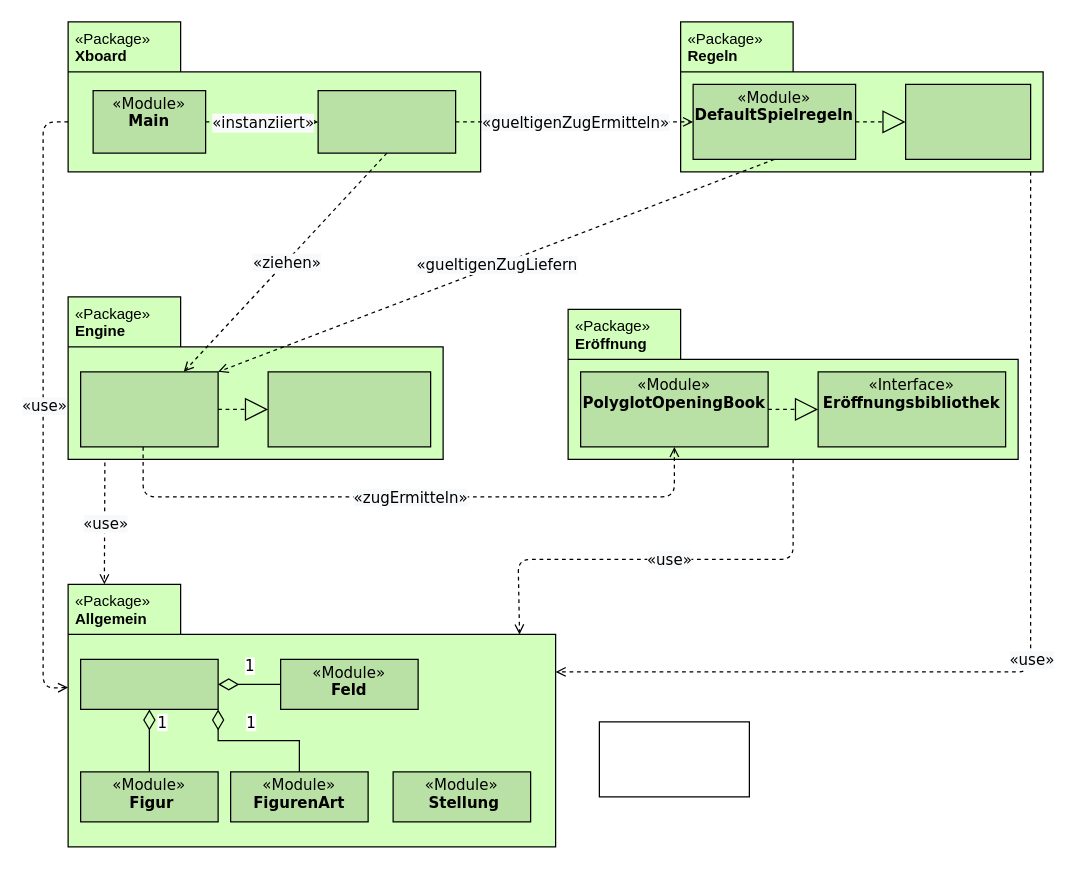
This 1075x869 diagram has some shape labels left out. Here are the shapes that lost their labels. From the top down, the centre of each, then its label:
pixel 386 121: «Module » XBoard
pixel 967 121: «Interface » Spielregeln
pixel 148 409: «Module » DefaultEngine
pixel 349 409: «Interface » Engine
pixel 148 683: «Module » Zug
pixel 673 759: Functions@DevTime
